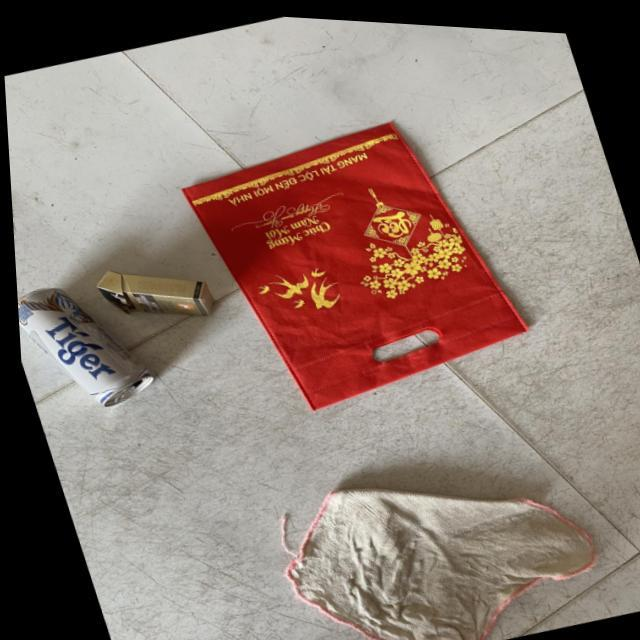clothes: (12, 250, 164, 436)
plastic: (238, 409, 616, 640)
trash: (76, 240, 222, 347)
wood: (168, 79, 540, 433)
